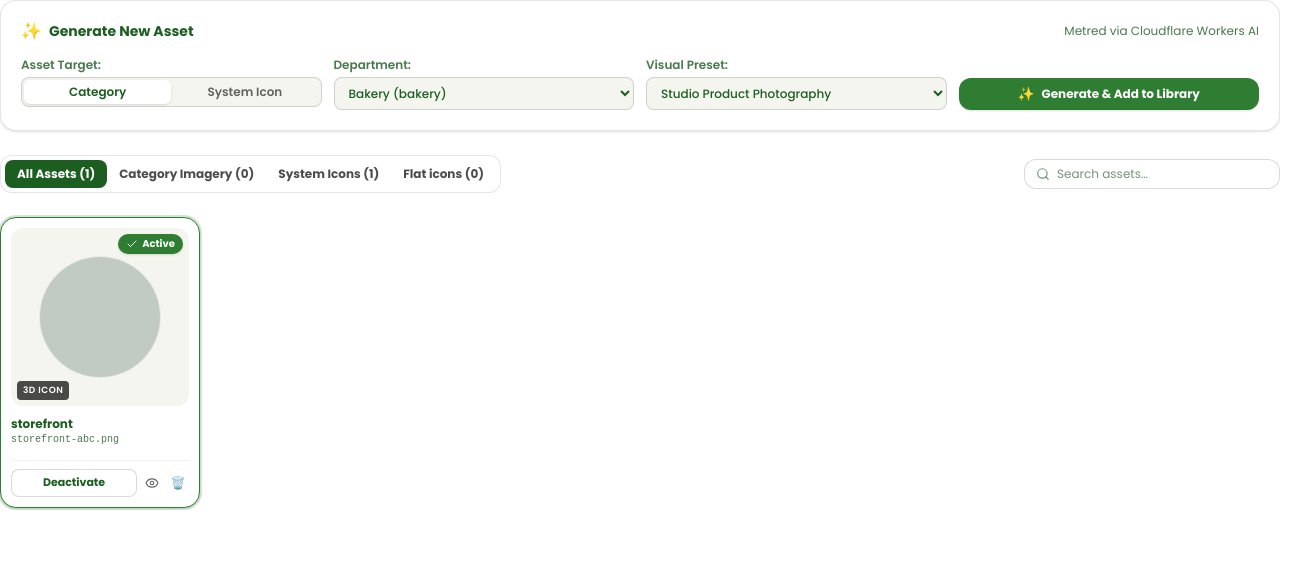
Scenario: IconGalleryClient (#1288 R4, R7, R9) › R4: deactivates the active asset from its card without a reload
What coordinates should you click on to do the following:
click the button "Deactivate"
I would click on:
 (74, 483)
Its box is [11,469,137,497].
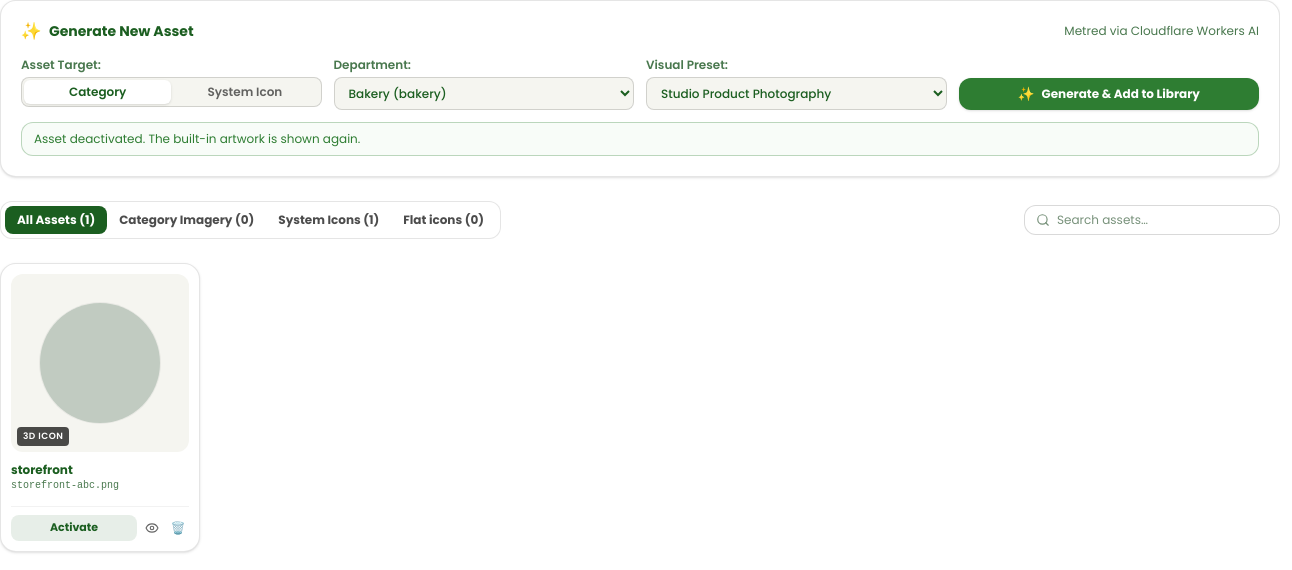
Expected: the button "Activate" is shown, [11,515,137,541]
Expected: the text "Active" is gone
